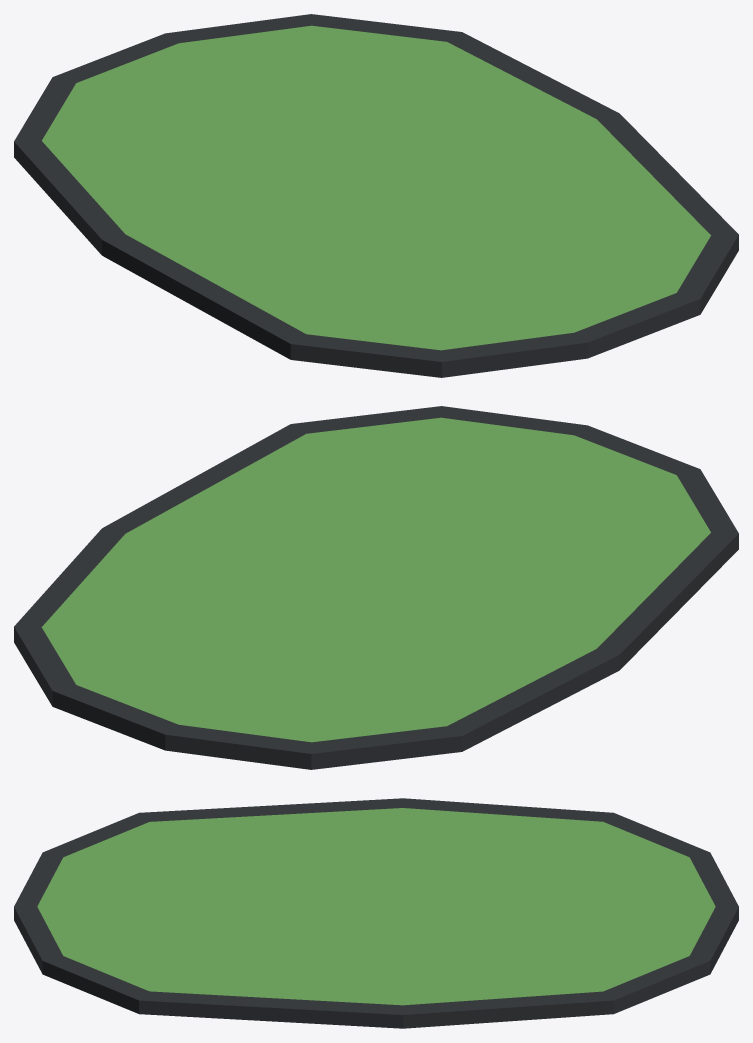
Rendered from SM_Prop_GreenScreen_02.glb.
The picture shows the model from 3 angles, top to bottom: view 1: azimuth 30°, elevation 25°; view 2: azimuth 150°, elevation 25°; view 3: azimuth 270°, elevation 25°; orthographic projection. The views are drawn at different scales.
Visible parts, largest first — view 1: SM_Prop_GreenScreen_02; view 2: SM_Prop_GreenScreen_02; view 3: SM_Prop_GreenScreen_02.
Part boxes in pixels (x1,y1,x2,y2): SM_Prop_GreenScreen_02: [14, 14, 738, 377]; SM_Prop_GreenScreen_02: [14, 406, 738, 769]; SM_Prop_GreenScreen_02: [14, 798, 738, 1028].
Bounding box in the file's own units: 0.8592 × 0.0253 × 1.21.
Materials: 1 (1 with a texture image).
